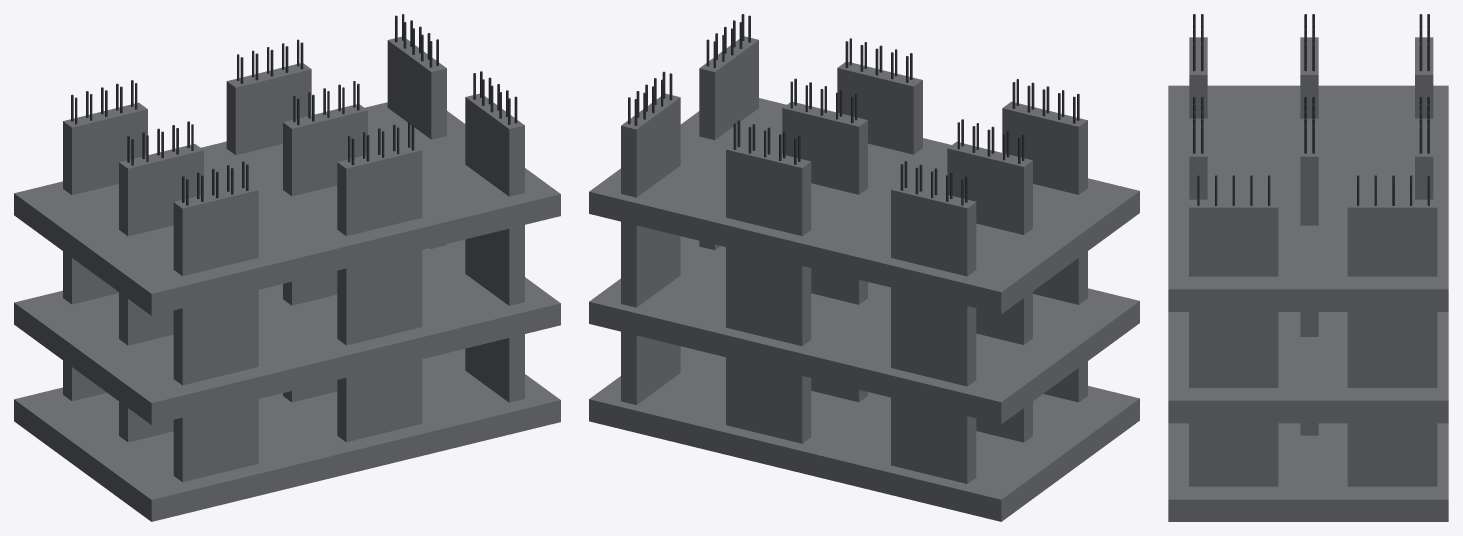
Rendered from Construction_1.fbx.
3 renders of one model, left to right at view 1: azimuth 30°, elevation 25°; view 2: azimuth 150°, elevation 25°; view 3: azimuth 270°, elevation 25°, orthographic.
Parts seen in each view (by area): view 1: Construction_1; view 2: Construction_1; view 3: Construction_1.
Part boxes in pixels (box(x1,y1,x2,y2)): Construction_1: box(14, 14, 560, 521); Construction_1: box(589, 14, 1139, 521); Construction_1: box(1168, 14, 1448, 521).
Size of the model in its own units: 860 by 646 by 501.
